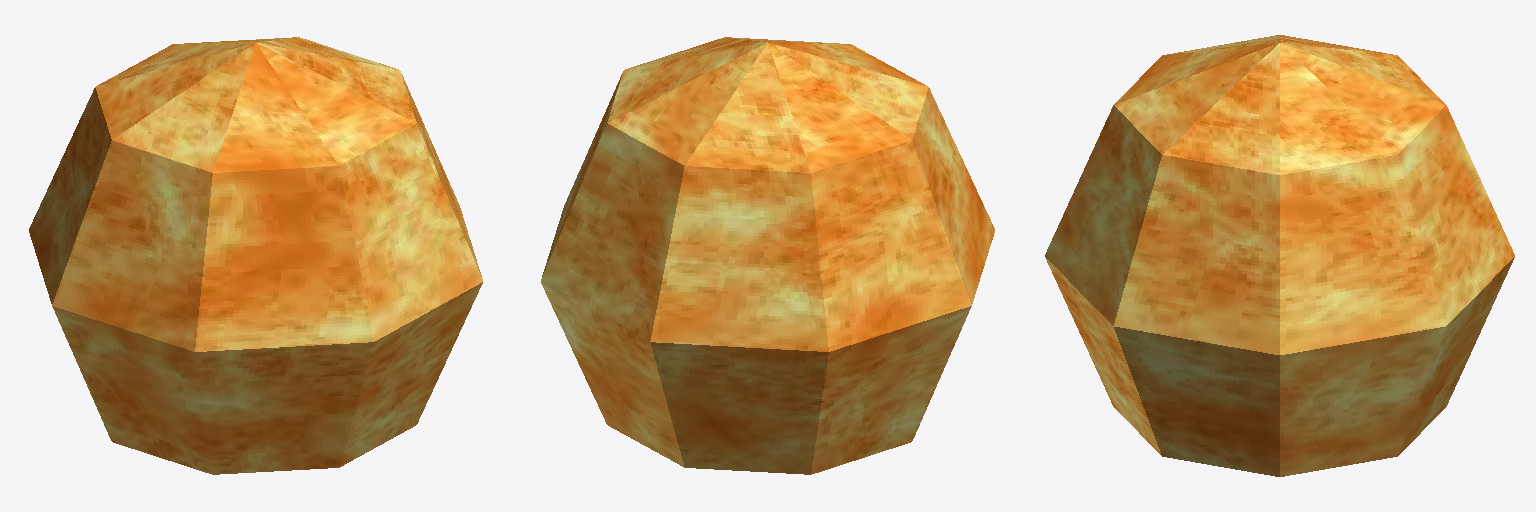
3 renders of one model, left to right at view 1: azimuth 30°, elevation 25°; view 2: azimuth 150°, elevation 25°; view 3: azimuth 270°, elevation 25°, orthographic.
Visible parts, largest first — view 1: Sphere; view 2: Sphere; view 3: Sphere.
Part boxes in pixels (bbox=[...]): Sphere: bbox=[29, 37, 482, 474]; Sphere: bbox=[541, 37, 994, 474]; Sphere: bbox=[1045, 35, 1514, 476].
Bounding box in the file's own units: 20 × 20 × 20.
Materials: 1 (1 with a texture image).